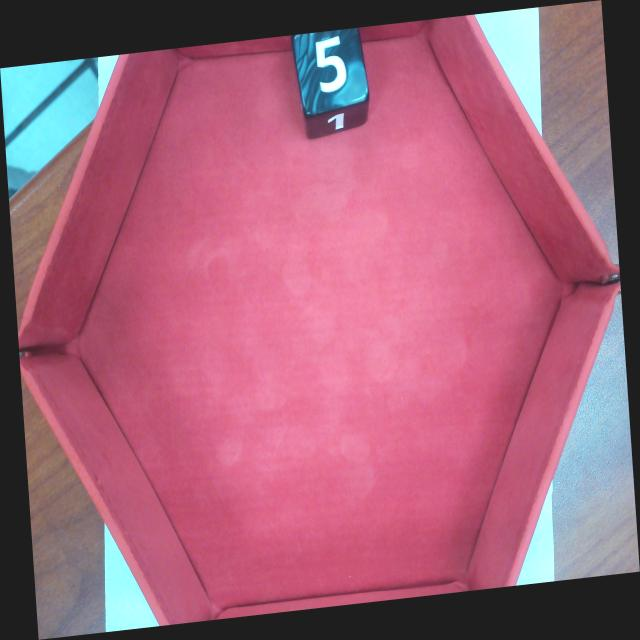dice: (297, 27, 365, 111)
